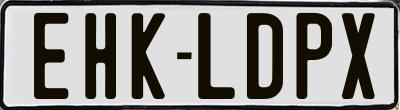D: (246, 13, 284, 104)
E: (31, 11, 68, 97)
H: (85, 13, 121, 100)
K: (131, 13, 167, 101)
L: (198, 13, 241, 103)
P: (296, 11, 337, 103)
X: (340, 11, 379, 97)
